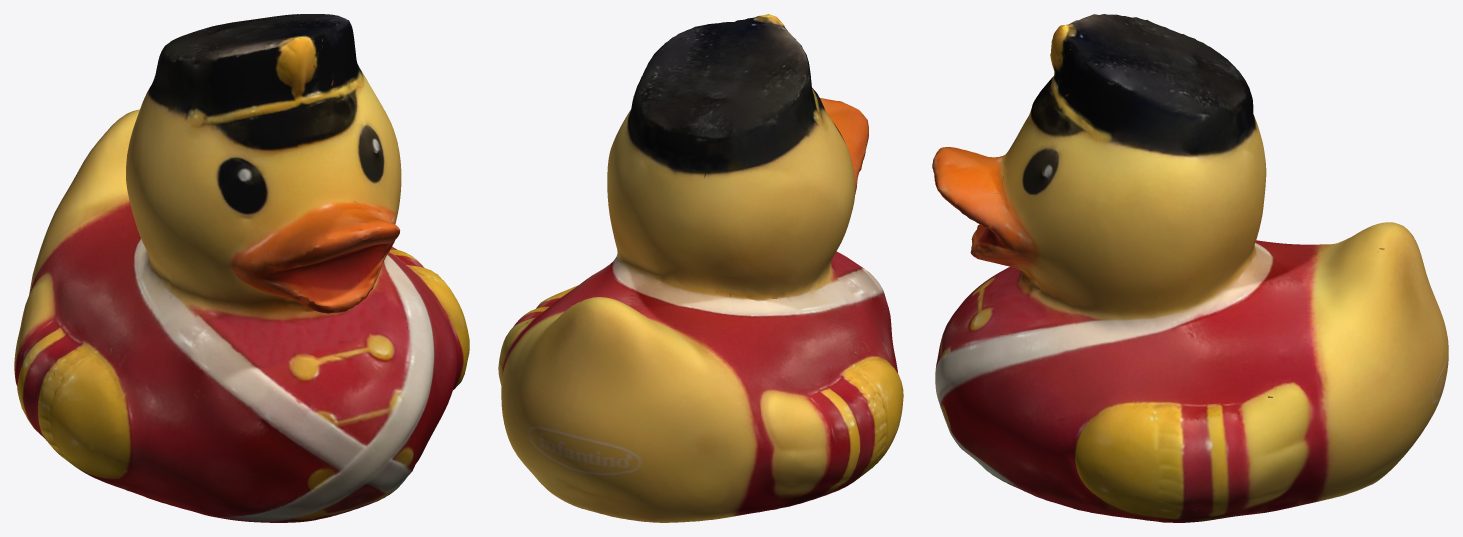
File: rubber_duck_war_3.glb
3 views of the same model, side by side, from view 1: azimuth 30°, elevation 25°; view 2: azimuth 150°, elevation 25°; view 3: azimuth 270°, elevation 25° (orthographic). The views are drawn at different scales.
Parts seen in each view (by area): view 1: RubberDuck_0; view 2: RubberDuck_0; view 3: RubberDuck_0.
Boxes of the visible parts, <box> form: RubberDuck_0: <box>14,14,469,522</box>; RubberDuck_0: <box>498,14,903,522</box>; RubberDuck_0: <box>932,14,1448,522</box>.
Bounding box in the file's own units: 1.72 × 1.86 × 2.
Materials: 1 (1 with a texture image).
